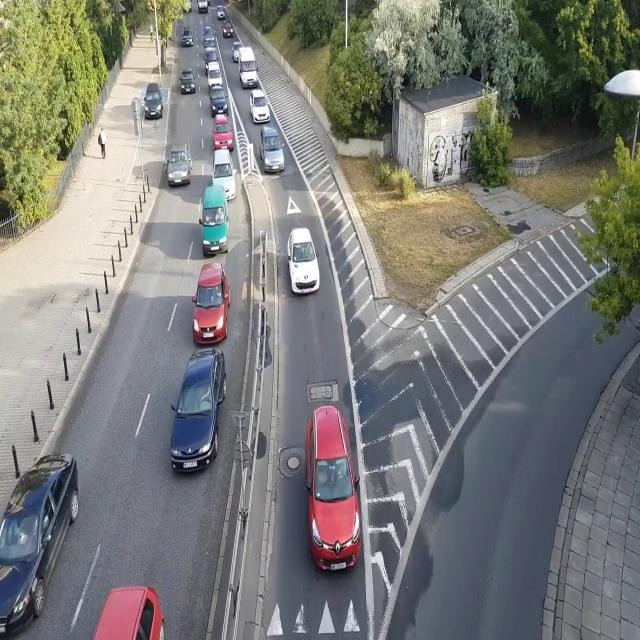car: (0, 451, 79, 635), (302, 408, 363, 576), (168, 347, 226, 477), (90, 587, 165, 640), (190, 262, 231, 343), (287, 226, 319, 295), (210, 149, 237, 202), (166, 144, 191, 188), (212, 115, 234, 151), (144, 83, 163, 119), (250, 89, 270, 123), (210, 86, 228, 117), (180, 68, 197, 95), (203, 49, 219, 76), (181, 26, 194, 48), (232, 40, 243, 62), (222, 21, 234, 39), (202, 24, 215, 38), (203, 36, 216, 48), (216, 5, 226, 20), (181, 0, 192, 12)
van: (198, 186, 230, 255), (259, 125, 284, 174), (238, 47, 259, 89), (208, 62, 223, 90), (198, 0, 208, 14)
